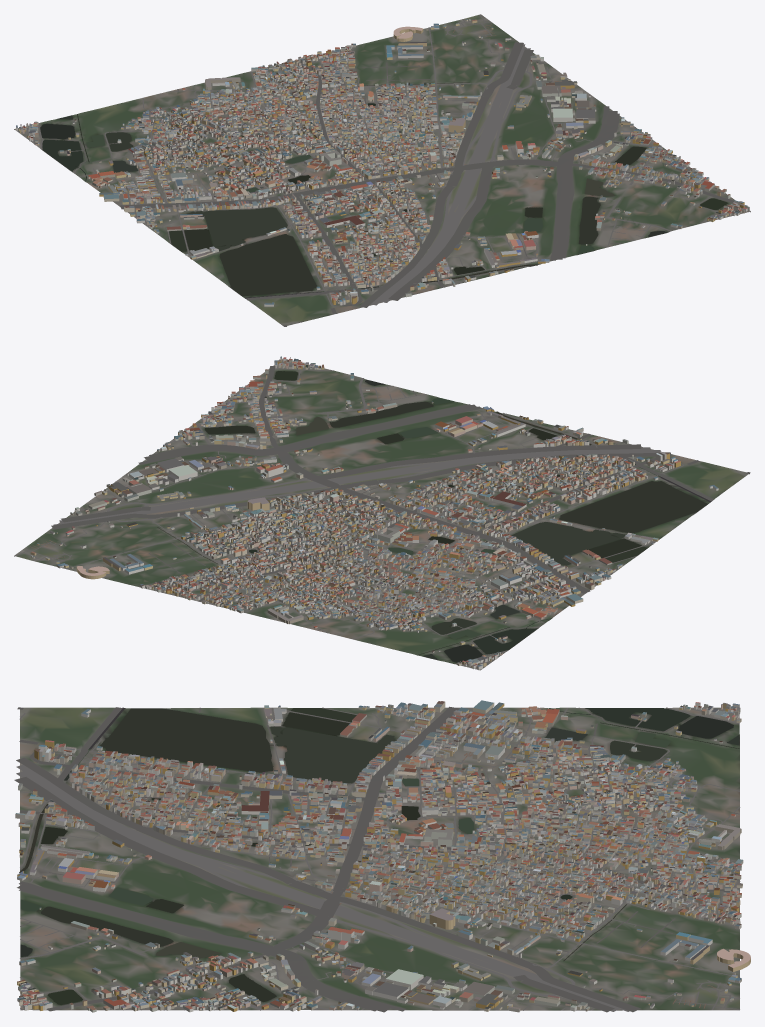
3 renders of one model, top to bottom at view 1: azimuth 30°, elevation 25°; view 2: azimuth 150°, elevation 25°; view 3: azimuth 270°, elevation 25°, orthographic. The views are drawn at different scales.
Visible parts, largest first — view 1: buildings, ground, roads, water; view 2: buildings, ground, roads, water; view 3: buildings, ground, roads, water.
Part boxes in pixels (x1=…): buildings: x1=16, y1=19, x2=749, y2=306; ground: x1=14, y1=14, x2=750, y2=325; roads: x1=24, y1=14, x2=749, y2=326; water: x1=40, y1=82, x2=728, y2=298; buildings: x1=30, y1=356, x2=718, y2=670; ground: x1=14, y1=358, x2=749, y2=670; roads: x1=15, y1=358, x2=750, y2=668; water: x1=157, y1=371, x2=711, y2=662; buildings: x1=15, y1=700, x2=750, y2=1012; ground: x1=20, y1=707, x2=739, y2=1010; roads: x1=14, y1=706, x2=740, y2=1012; water: x1=19, y1=707, x2=739, y2=1004.
Size of the model in its own units: 1430 by 24.82 by 1435.
